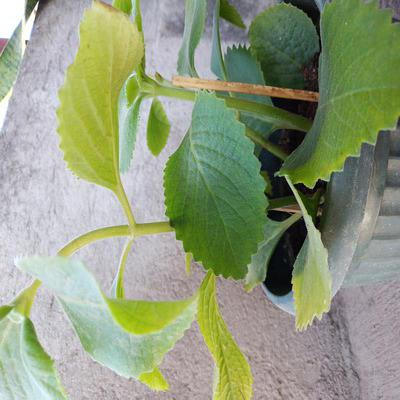Oregano: (57, 9, 343, 306)
